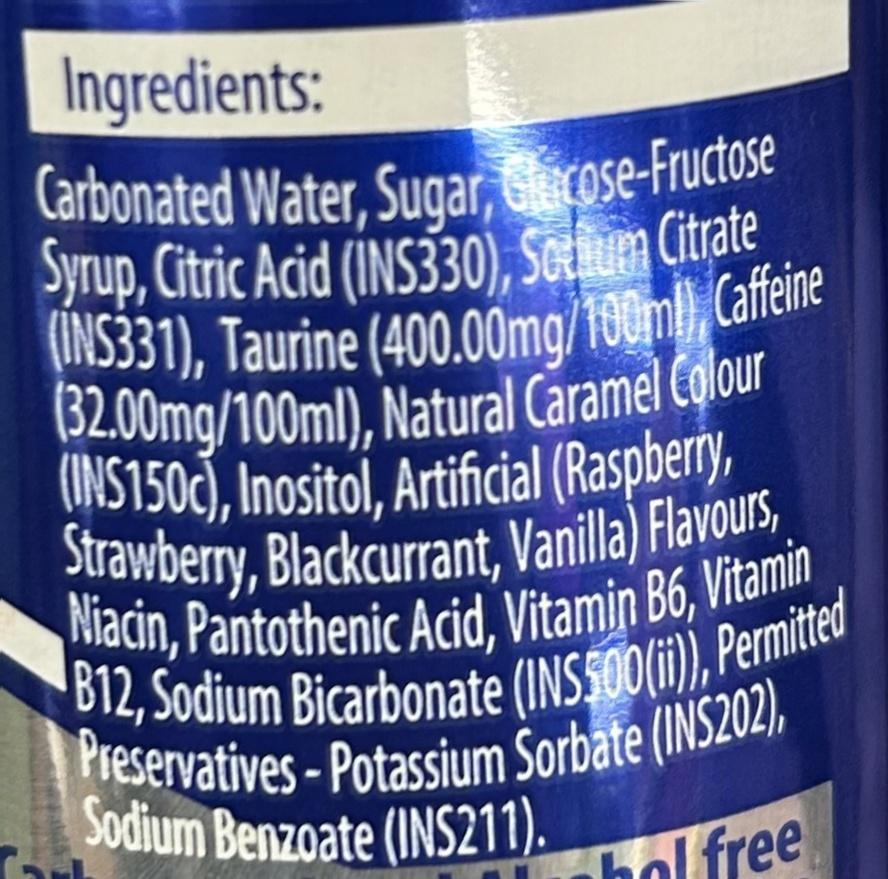ingredients: (25, 32, 871, 868)
